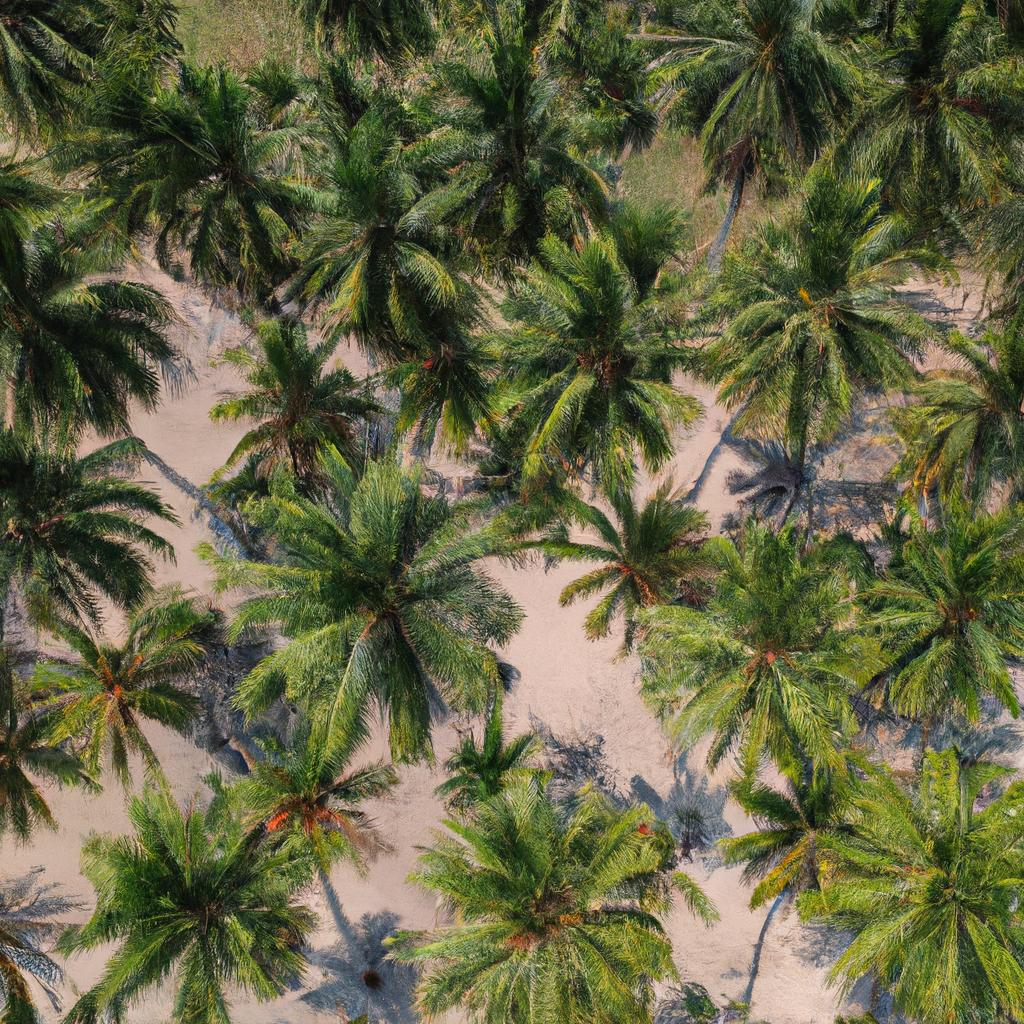coconut_tree: (232, 462, 516, 758), (408, 737, 688, 1023), (65, 794, 343, 1018), (792, 761, 1023, 1021), (708, 202, 940, 453), (640, 521, 881, 754), (494, 245, 711, 494), (272, 104, 470, 339), (13, 575, 208, 769)
